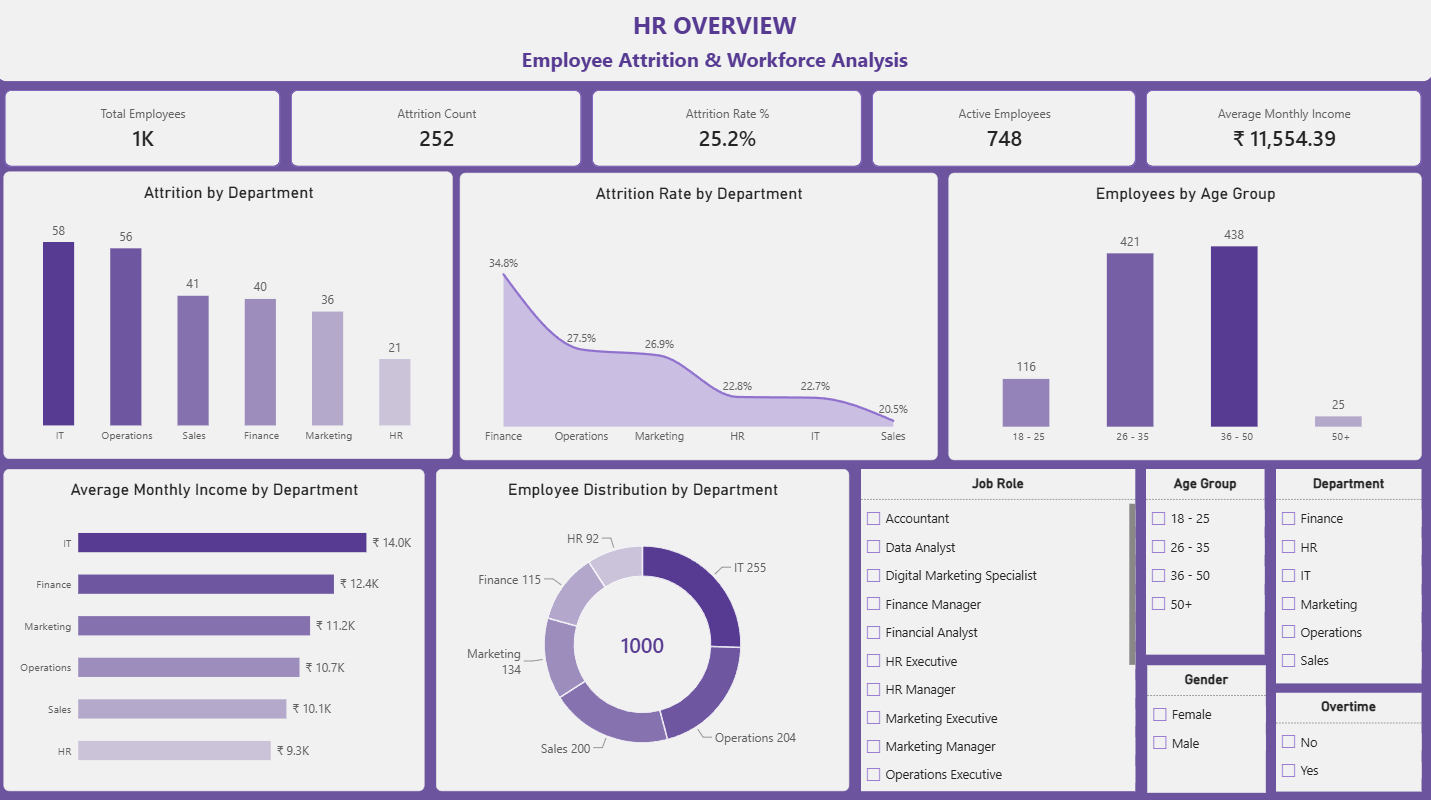

The page's visual inventory and layout, read from the dashboard file:
{"tool":"powerbi","page":{"name":"HR Overview","canvas":[1920,1080],"ordinal":0},"visuals":[{"type":"cardVisual","fields":{"Data":["HR_Data.Total Employees"]},"box":[12,128,368,102],"z":0},{"type":"cardVisual","fields":{"Data":["HR_Data.Attrition Count"]},"box":[394,128,388,102],"z":1000},{"type":"cardVisual","fields":{"Data":["HR_Data.Attrition Rate %"]},"box":[796,128,360,102],"z":2000},{"type":"cardVisual","fields":{"Data":["HR_Data.Active Employees"]},"box":[1170,128,352,102],"z":3000},{"type":"cardVisual","fields":{"Data":["HR_Data.Average Monthly Income"]},"box":[1536,128,368,102],"z":4000},{"type":"clusteredColumnChart","title":"Attrition by Department","fields":{"Category":["HR_Data.Department"],"Y":["HR_Data.Attrition Count"]},"box":[10,237.5,600,384],"z":5000},{"type":"areaChart","title":"Attrition Rate by Department","fields":{"Category":["HR_Data.Department"],"Y":["HR_Data.Attrition Rate %"]},"box":[620,238,638,384],"z":6000},{"type":"clusteredBarChart","fields":{"Category":["HR_Data.Department"],"Y":["HR_Data.Average Monthly Income"]},"box":[10,634,562,430],"z":7000},{"type":"donutChart","title":"Employee Distribution by Department","fields":{"Category":["HR_Data.Department"],"Y":["HR_Data.Total Employees"]},"box":[588,634,552,430],"z":8000},{"type":"columnChart","title":"Employees by Age Group","fields":{"Category":["HR_Data.Age_Group"],"Y":["HR_Data.Total Employees"]},"box":[1272,238,632,384],"z":9000},{"type":"shape","box":[0,0,1920,80],"z":10000},{"type":"shape","box":[0,56.7,1920,60],"z":11000},{"type":"slicer","title":"Department","fields":{"Values":["HR_Data.Department"]},"box":[1710,634,194,286],"z":12000},{"type":"slicer","title":"Job Role","fields":{"Values":["HR_Data.JobRole"]},"box":[1156,634,366,430],"z":13000},{"type":"slicer","title":"Gender","fields":{"Values":["HR_Data.Gender"]},"box":[1538,896,158,170],"z":14000},{"type":"slicer","title":"Age Group","fields":{"Values":["HR_Data.Age_Group"]},"box":[1536,634,158,248],"z":15000},{"type":"slicer","title":"Overtime","fields":{"Values":["HR_Data.OverTime"]},"box":[1710,934,194,132],"z":16000}]}

Visuals, with their boxes in screenshot pixels (x1, y1, x2, y2), scaled from the page's 1920x1080 canvas onto the 1431x800 screenshot:
cardVisual - HR_Data.Total Employees: rect(9, 95, 283, 170)
cardVisual - HR_Data.Attrition Count: rect(294, 95, 583, 170)
cardVisual - HR_Data.Attrition Rate %: rect(593, 95, 862, 170)
cardVisual - HR_Data.Active Employees: rect(872, 95, 1134, 170)
cardVisual - HR_Data.Average Monthly Income: rect(1145, 95, 1419, 170)
"Attrition by Department" clusteredColumnChart: rect(7, 176, 455, 460)
"Attrition Rate by Department" areaChart: rect(462, 176, 938, 461)
clusteredBarChart - HR_Data.Department x HR_Data.Average Monthly Income: rect(7, 470, 426, 788)
"Employee Distribution by Department" donutChart: rect(438, 470, 850, 788)
"Employees by Age Group" columnChart: rect(948, 176, 1419, 461)
shape: rect(0, 0, 1430, 59)
shape: rect(0, 42, 1430, 86)
"Department" slicer: rect(1274, 470, 1419, 681)
"Job Role" slicer: rect(862, 470, 1134, 788)
"Gender" slicer: rect(1146, 664, 1264, 790)
"Age Group" slicer: rect(1145, 470, 1263, 653)
"Overtime" slicer: rect(1274, 692, 1419, 790)
